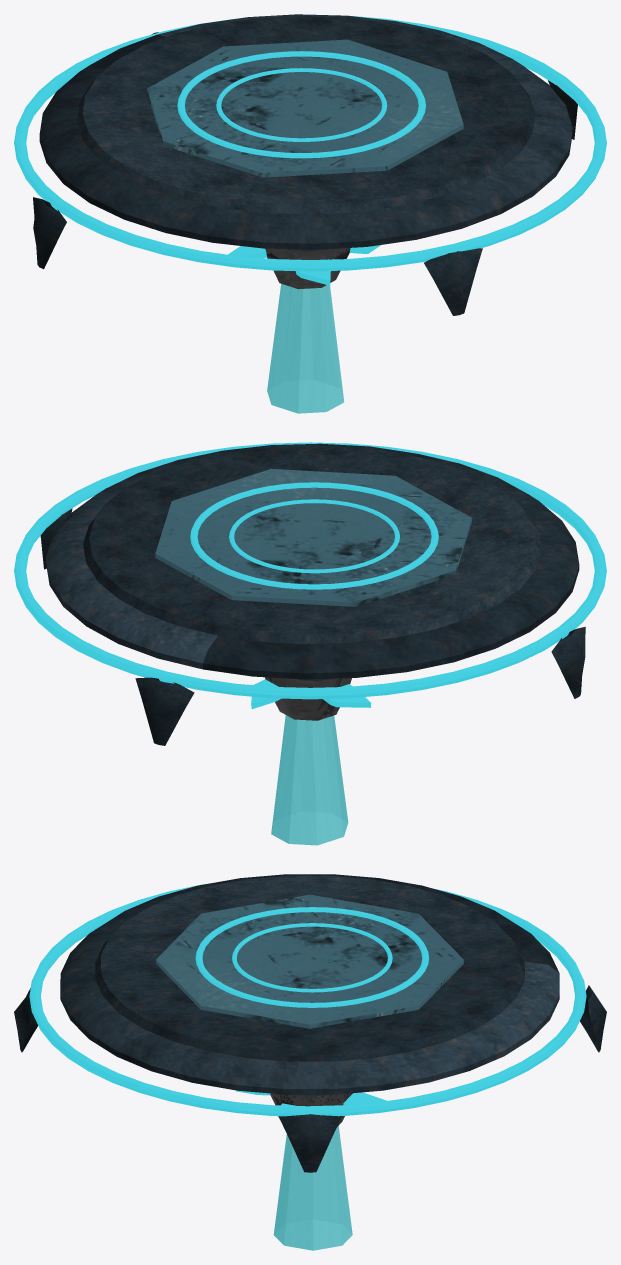
The model's file is floating_platform2.glb.
The picture shows the model from 3 angles, top to bottom: view 1: azimuth 30°, elevation 25°; view 2: azimuth 150°, elevation 25°; view 3: azimuth 270°, elevation 25°; orthographic projection. The views are drawn at different scales.
Parts seen in each view (by area): view 1: Object001_Material #5_0.001; view 2: Object001_Material #5_0.001; view 3: Object001_Material #5_0.001.
Boxes of the visible parts, <box> form: Object001_Material #5_0.001: <box>14,14,606,413</box>; Object001_Material #5_0.001: <box>14,442,606,845</box>; Object001_Material #5_0.001: <box>14,874,606,1250</box>.
Size of the model in its own units: 6.34 by 3.28 by 6.35.
5 materials, 4 textured.
